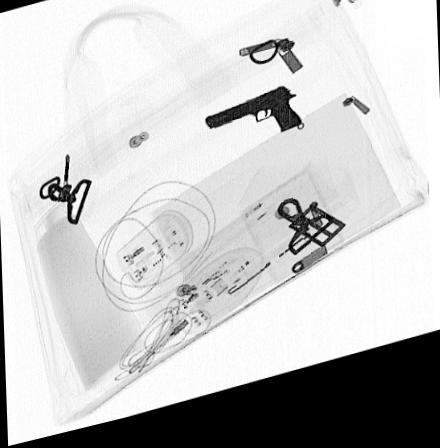Gun: (205, 98, 302, 145)
